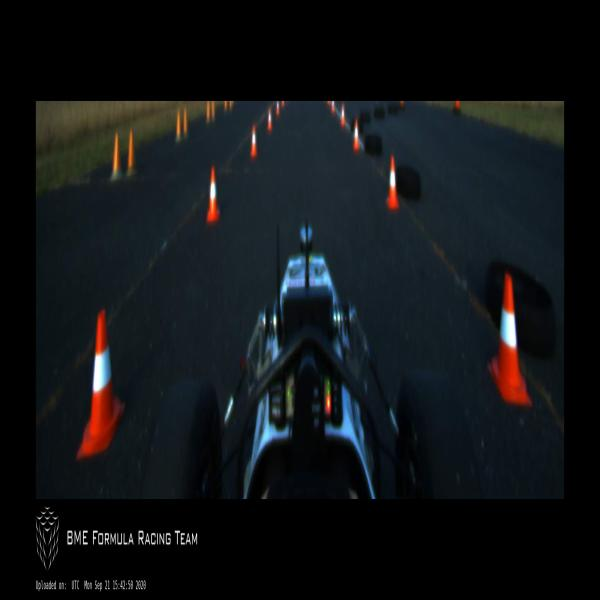orange_cone: (77, 309, 125, 461), (488, 274, 532, 405), (207, 168, 220, 224), (386, 156, 399, 210), (250, 126, 258, 157), (352, 120, 360, 151), (268, 108, 272, 131), (341, 105, 344, 126), (276, 101, 279, 115)
unknown_cone: (110, 130, 123, 184), (126, 130, 138, 178), (182, 107, 190, 138), (175, 109, 182, 144), (205, 101, 211, 124), (210, 101, 215, 118)
